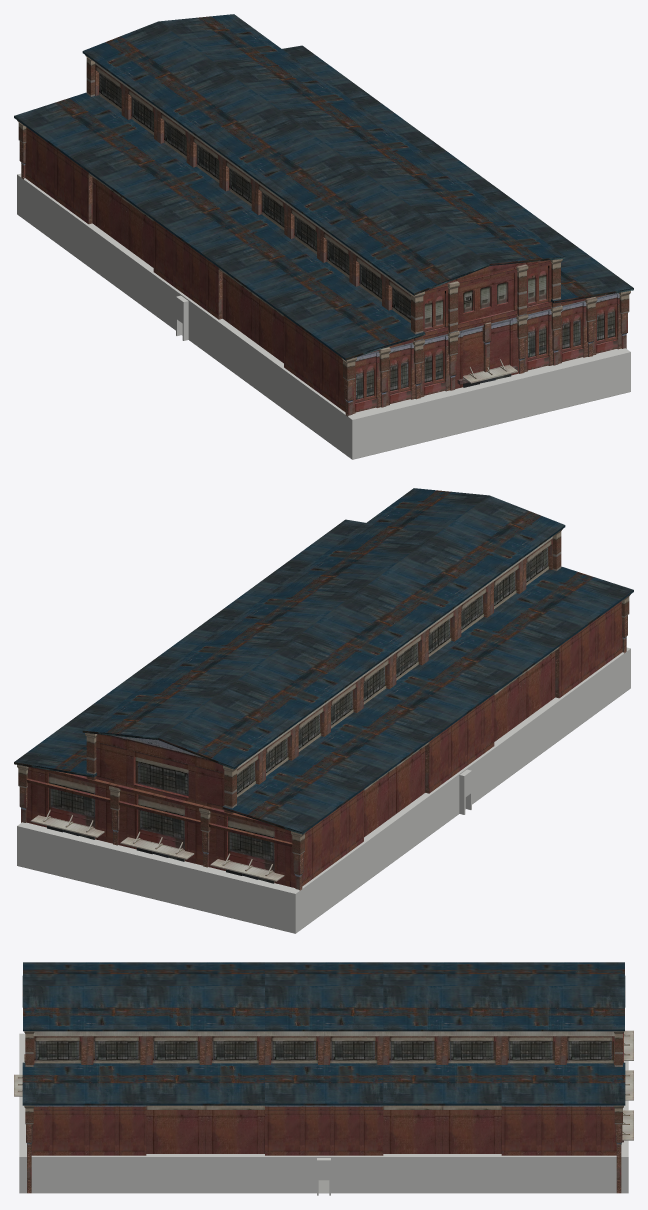
Rendered from ind-factory.zfix-v14.lod0.glb.
The picture shows the model from 3 angles, top to bottom: view 1: azimuth 30°, elevation 25°; view 2: azimuth 150°, elevation 25°; view 3: azimuth 270°, elevation 25°; orthographic projection. The views are drawn at different scales.
Parts seen in each view (by area): view 1: Industrial_FactoryPlant_1_Industrial_Walls_FLR_2_0, Industrial_FactoryPlant_1_Industrial_Facade_Flr_1_0, Walkable floors and stairs (×2); view 2: Industrial_FactoryPlant_1_Industrial_Walls_FLR_2_0, Industrial_FactoryPlant_1_Industrial_Facade_Flr_1_0, Walkable floors and stairs (×2); view 3: Industrial_FactoryPlant_1_Industrial_Walls_FLR_2_0, Industrial_FactoryPlant_1_Industrial_Facade_Flr_1_0, Walkable floors and stairs (×2).
Part boxes in pixels (x1,y1,x2,y2): Industrial_FactoryPlant_1_Industrial_Walls_FLR_2_0: (14,14,633,387); Industrial_FactoryPlant_1_Industrial_Facade_Flr_1_0: (17,55,630,416); Walkable floors and stairs (×2): (17,173,630,459); Industrial_FactoryPlant_1_Industrial_Walls_FLR_2_0: (14,488,633,883); Industrial_FactoryPlant_1_Industrial_Facade_Flr_1_0: (17,529,630,890); Walkable floors and stairs (×2): (17,647,630,933); Industrial_FactoryPlant_1_Industrial_Walls_FLR_2_0: (22,962,625,1144); Industrial_FactoryPlant_1_Industrial_Facade_Flr_1_0: (14,1030,633,1193); Walkable floors and stairs (×2): (19,1033,628,1195).
Bounding box in the file's own units: 46.53 × 24.74 × 95.3.
Materials: 4 (2 with a texture image).
